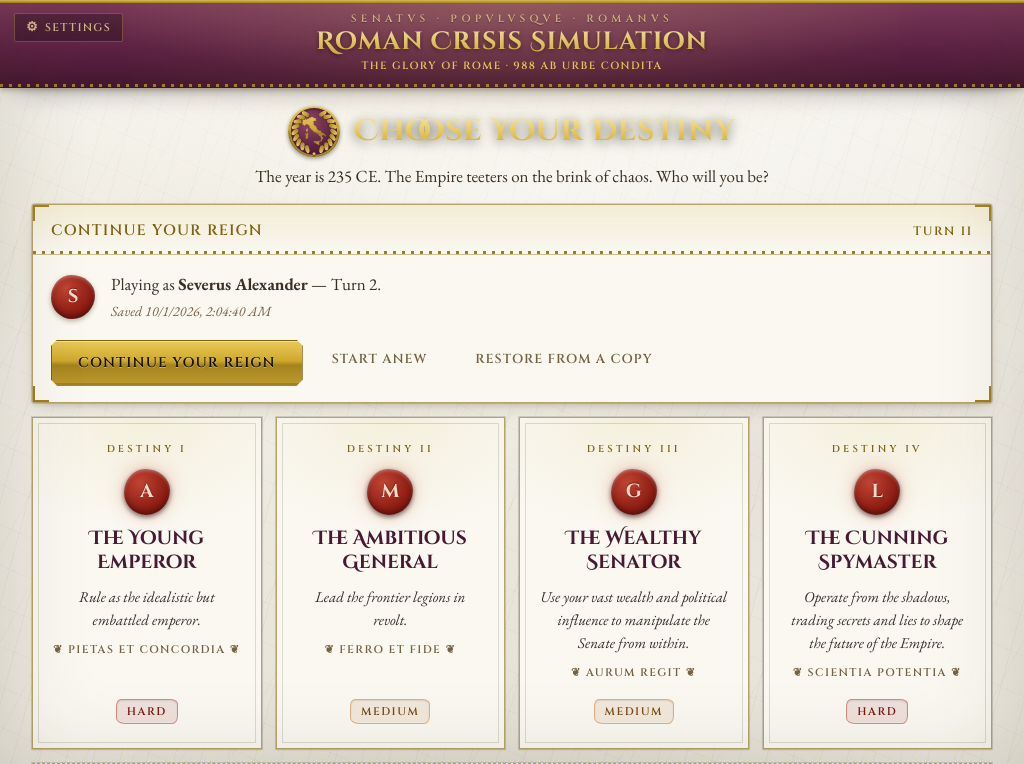
Test: the side panel › the chronicle keeps its reading height, and only the Structured registers scroll
This screenshot has width=1024, height=764.
Click the button "Continue Your Reign". click: {"x": 177, "y": 363}
box: [51, 340, 303, 386]
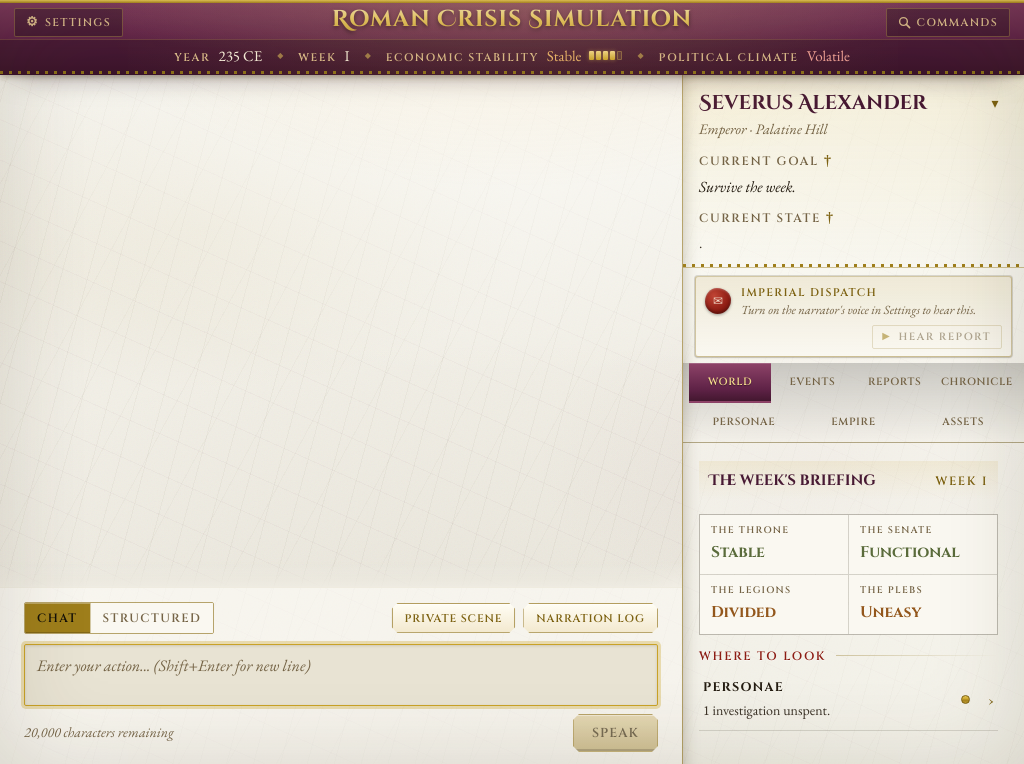
Expected: the text box with id "chat-input" is shown, [24, 644, 658, 706]
Click the button "Structured". click: {"x": 151, "y": 618}
box: [90, 603, 213, 633]
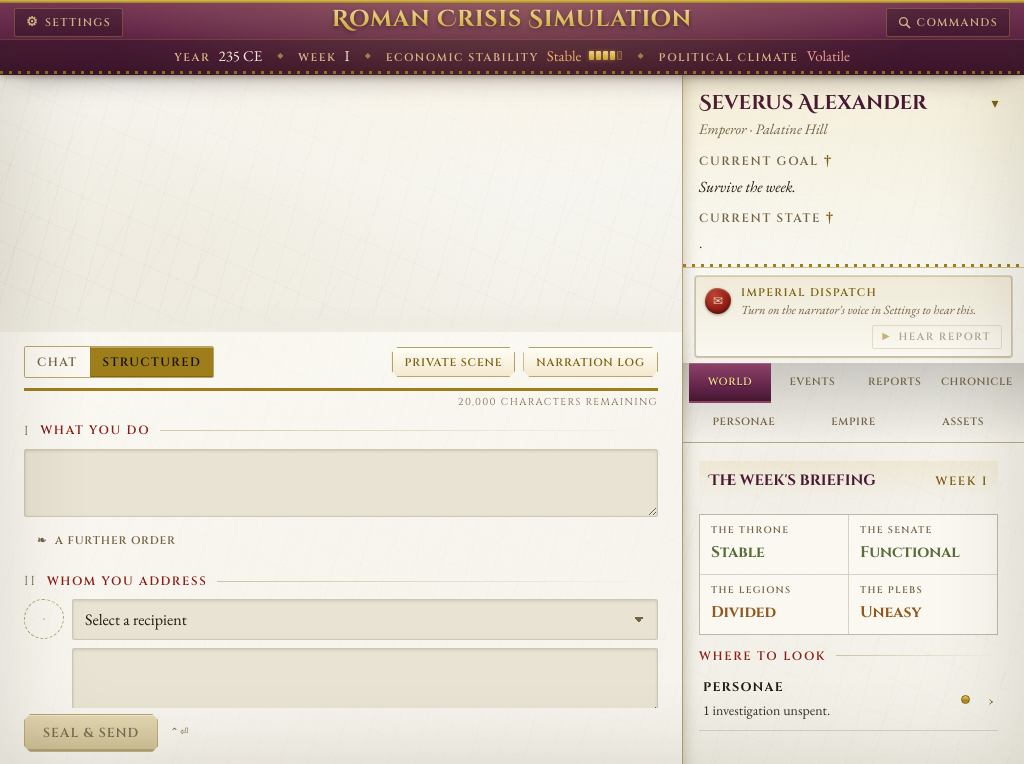
Expected: the text box with id "structured-input" is shown, [24, 449, 658, 517]
